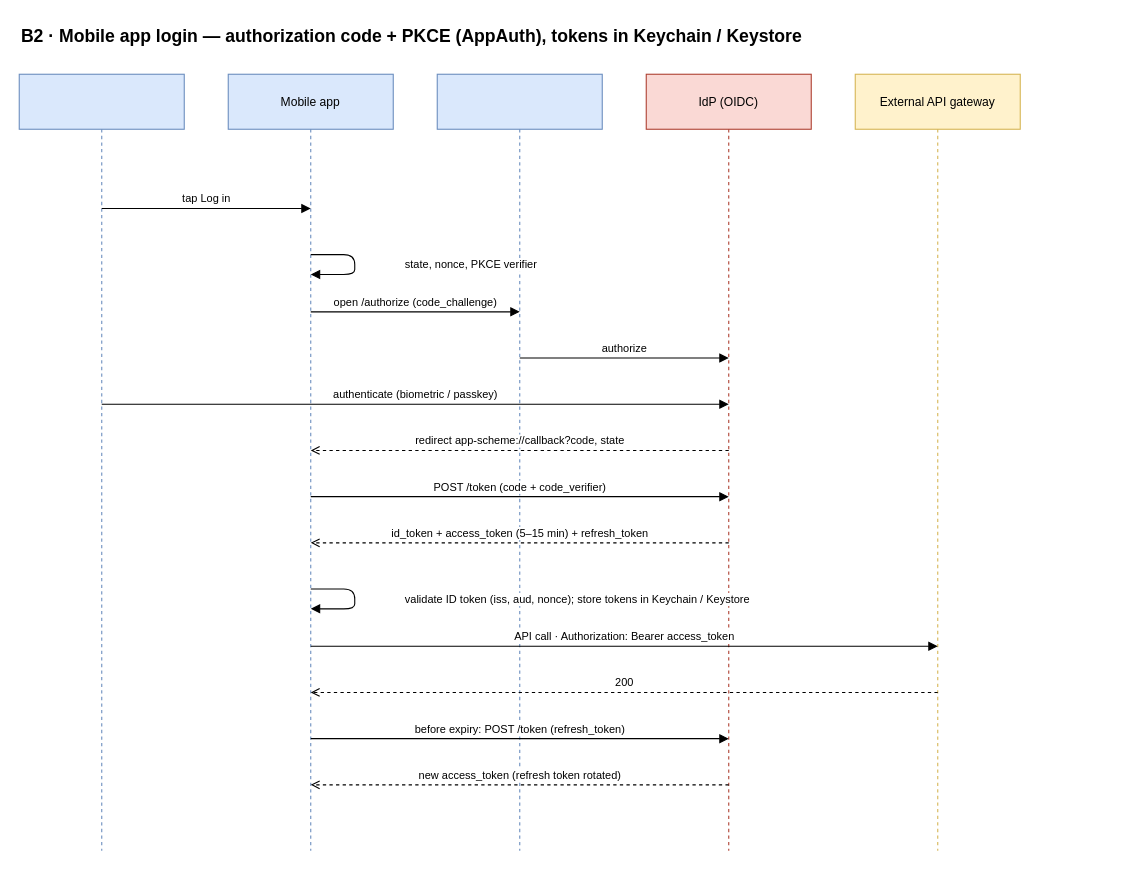
This 1139x870 diagram has some shape labels left out. The box of each missing label's shape, as (x1, y1, x2, y2) in pixels:
Customer: (18, 73, 184, 851)
System browser: (436, 73, 602, 851)
